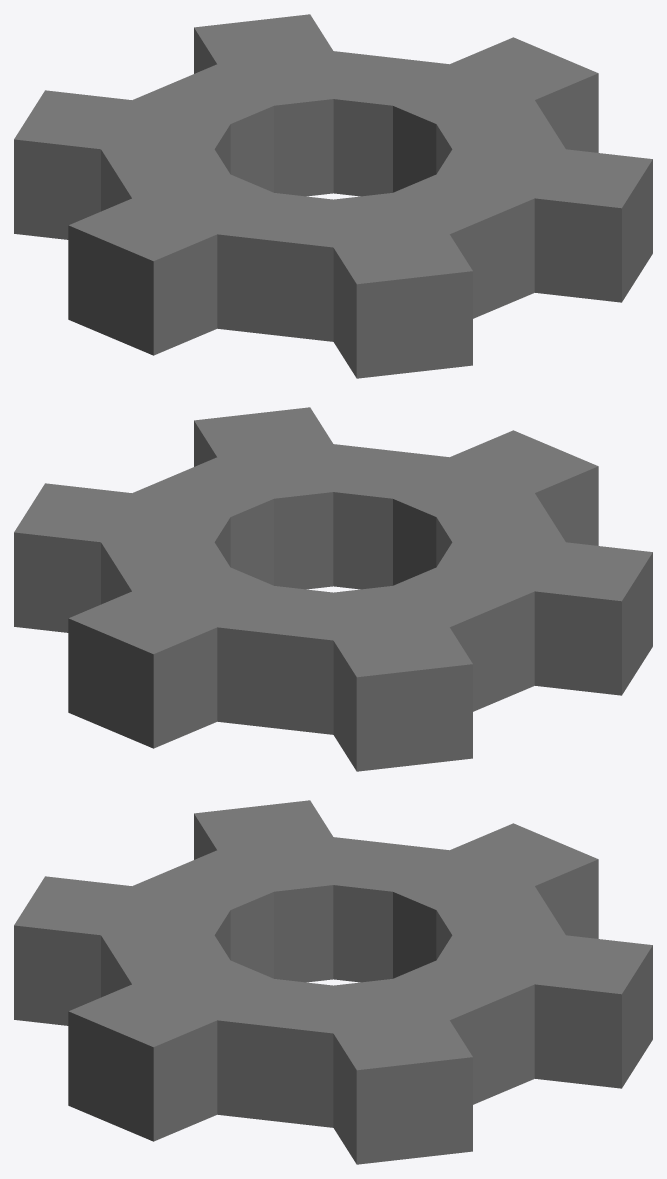
Rendered from Engrenagem.fbx.
3 renders of one model, top to bottom at view 1: azimuth 30°, elevation 25°; view 2: azimuth 150°, elevation 25°; view 3: azimuth 270°, elevation 25°, orthographic.
Parts seen in each view (by area): view 1: Engrenagem; view 2: Engrenagem; view 3: Engrenagem.
Part boxes in pixels (<box>): Engrenagem: <box>14,14,652,378</box>; Engrenagem: <box>14,407,652,771</box>; Engrenagem: <box>14,800,652,1164</box>.
Bounding box in the file's own units: 30.53 × 4.98 × 30.53.
Materials: 1 (1 with a texture image).
